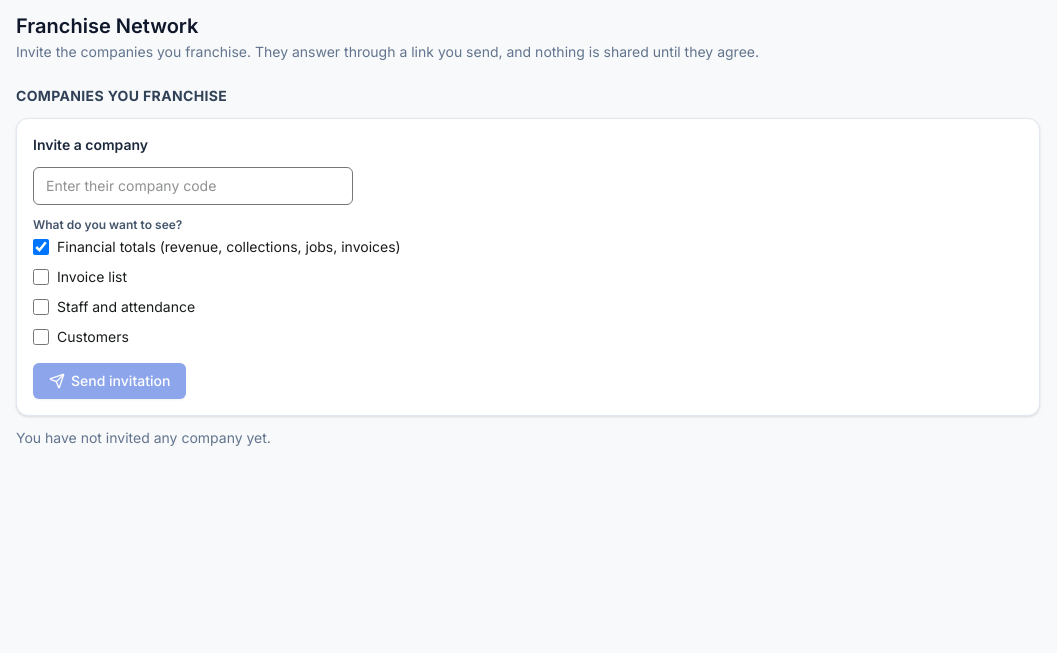
Test: FranchisePage (the franchisor) › sends an invitation with the chosen items and shows the link to pass on
Type "0002" into the field named "Company code to invite" at [193, 186], box [33,167,353,205]
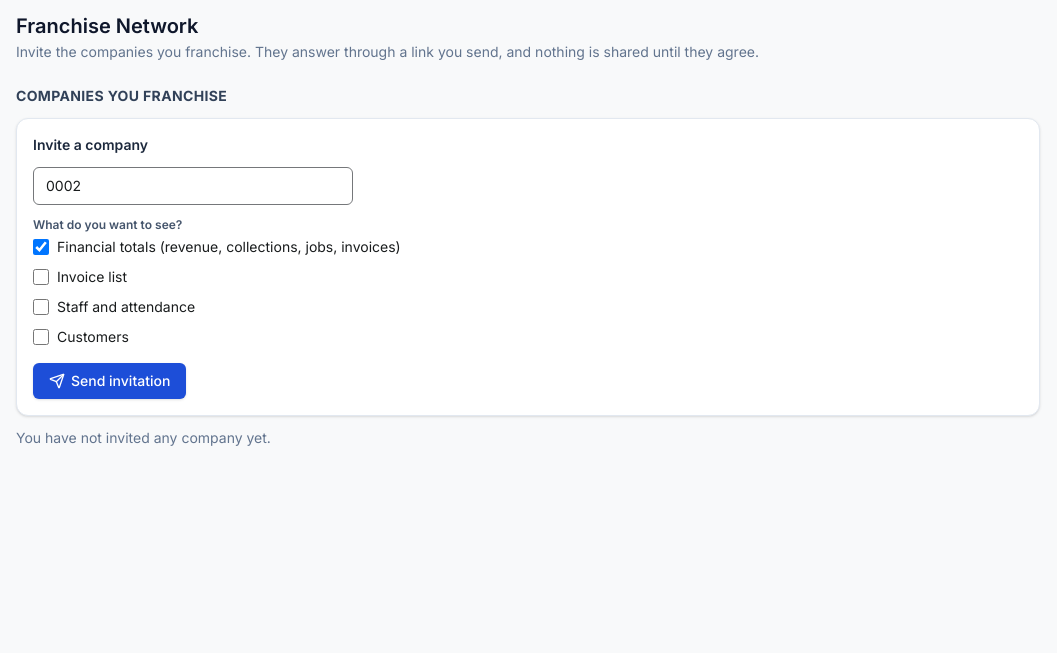
Click the checkbox labelled "Invoice list" at [41, 277], box [33,269,49,285]
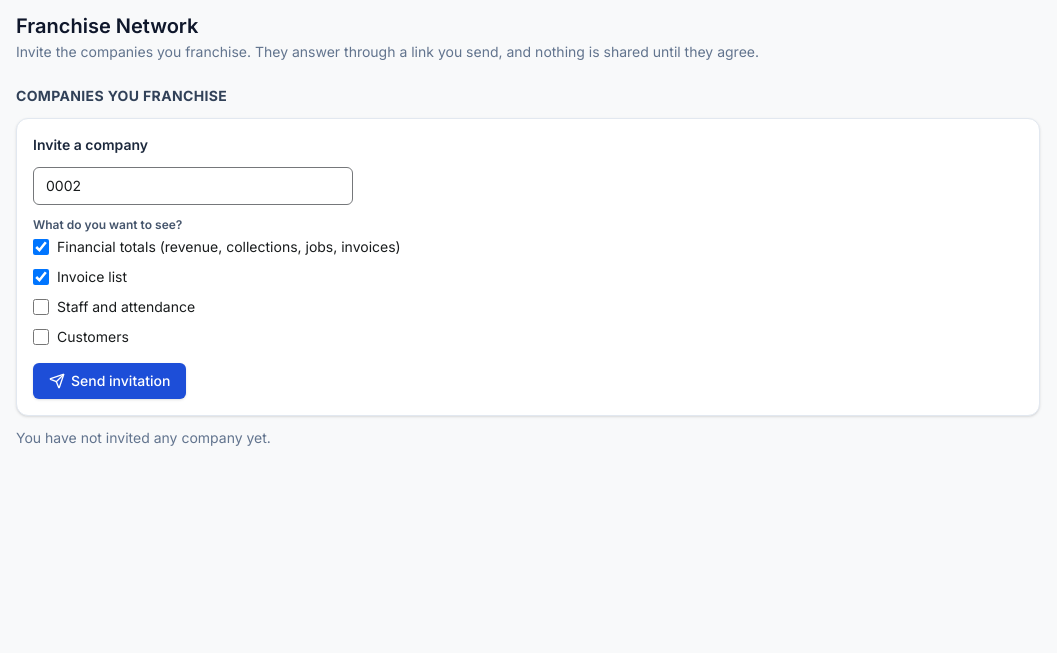
Click the button "Send invitation" at [110, 381], box [33,363,186,399]
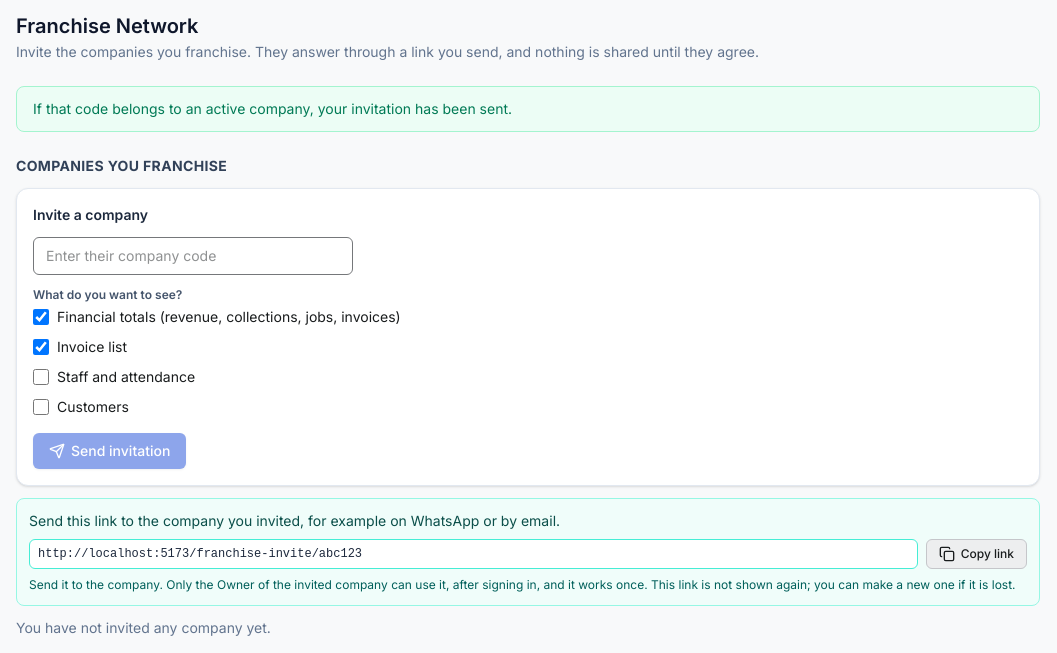
Check: the text "If that code belongs to an active company, your invitation has been sent." is shown, box [16,86,1040,132]
Check: the field named "Invitation link" holds "http://localhost:5173/franchise-invite/abc123", box [29,539,918,569]
Check: the text "Only the Owner of the invited company can use it" is shown, box [29,577,644,592]
